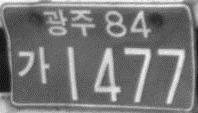1: (63, 45, 86, 99)
4: (94, 47, 120, 102), (131, 9, 150, 39)
7: (155, 46, 186, 107), (123, 47, 154, 103)
8: (102, 8, 128, 39)
가: (16, 46, 52, 85)
광주_O: (41, 9, 96, 37)
